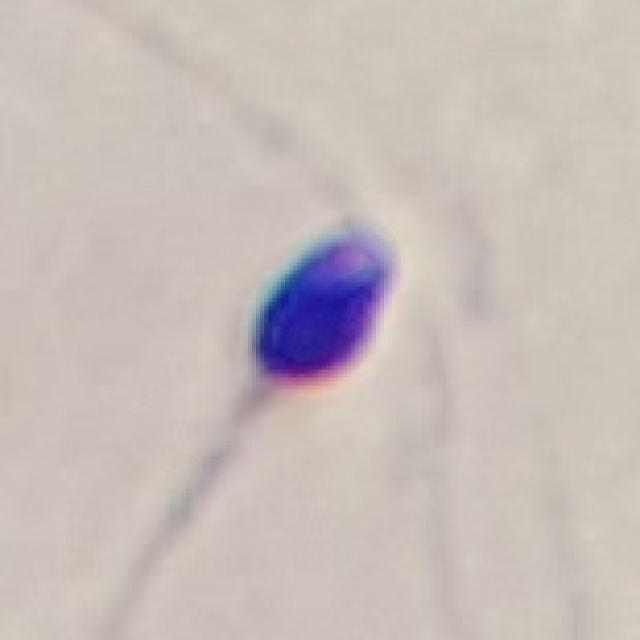normal sperm: (210, 233, 398, 465)
